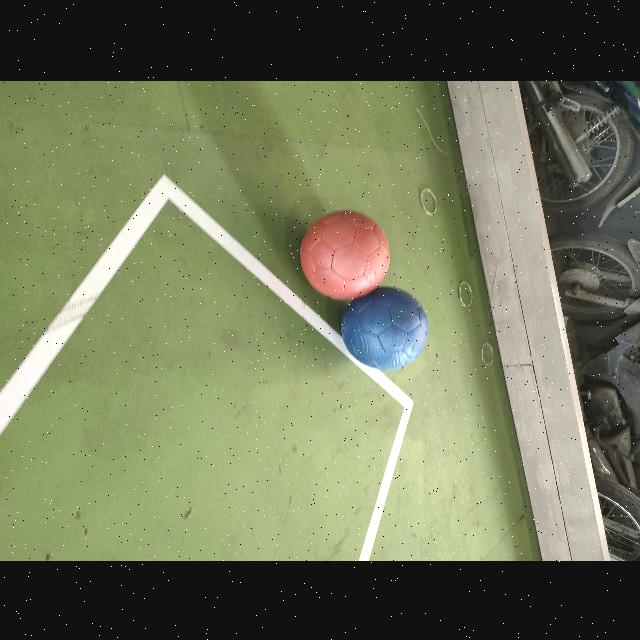B: (342, 287, 428, 370)
R: (300, 210, 389, 298)
